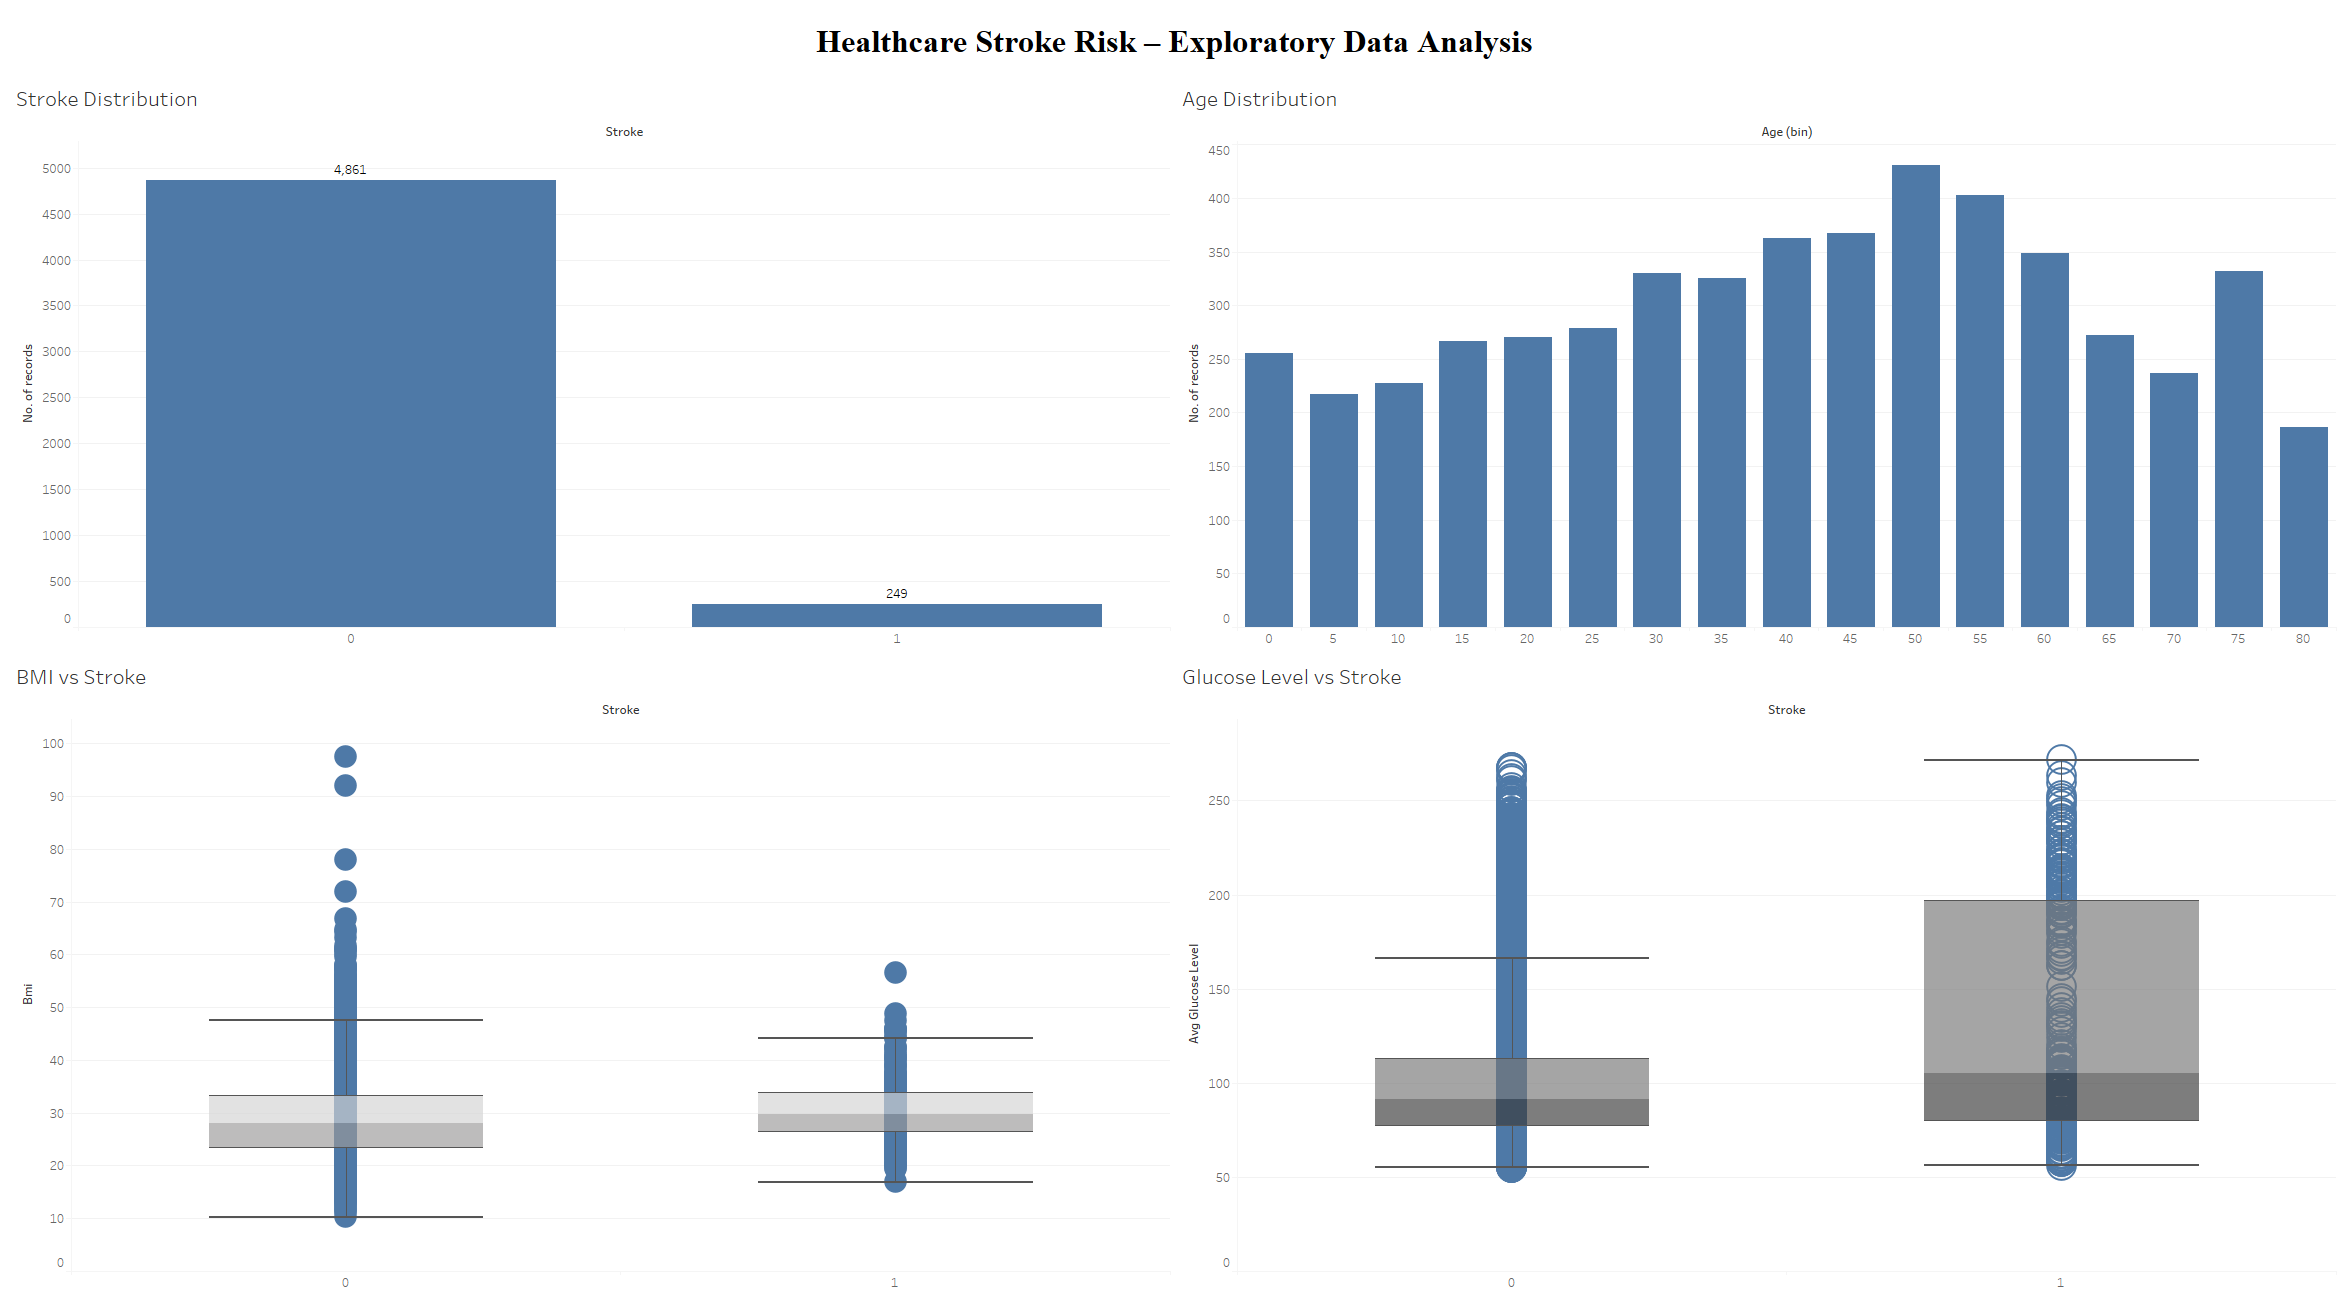

The page's visual inventory and layout, read from the dashboard file:
{"tool":"tableau","page":{"name":"Dashboard 1","canvas":[1000,1000],"units":"permille","ordinal":0},"visuals":[{"type":"text","box":[3.4,6.1,993.2,50.6]},{"type":"worksheet","title":"Stroke Distribution","mark":"Bar","rows":["stroke"],"cols":["stroke"],"box":[3.4,56.8,496.6,443.2]},{"type":"worksheet","title":"Age Distribution","mark":"Bar","rows":["stroke"],"cols":["Age (bin)"],"box":[500,56.8,496.6,443.2]},{"type":"worksheet","title":"BMI vs Stroke","mark":"Circle","rows":["bmi"],"cols":["stroke"],"box":[3.4,500,496.6,493.9]},{"type":"worksheet","title":"Glucose Level vs Stroke","mark":"Automatic","rows":["avg_glucose_level"],"cols":["stroke"],"box":[500,500,496.6,493.9]}]}

Visuals, with their boxes on the dashboard's canvas, which has no fixed pixel size, in thousandths of its width and height (x1, y1, x2, y2). These are canvas units, not pixel positions in the 2349x1304 screenshot, which may show the page scaled, cropped or inside an application window:
text: 3/6/997/57
"Stroke Distribution" worksheet (Bar marks): 3/57/500/500
"Age Distribution" worksheet (Bar marks): 500/57/997/500
"BMI vs Stroke" worksheet (Circle marks): 3/500/500/994
"Glucose Level vs Stroke" worksheet: 500/500/997/994
